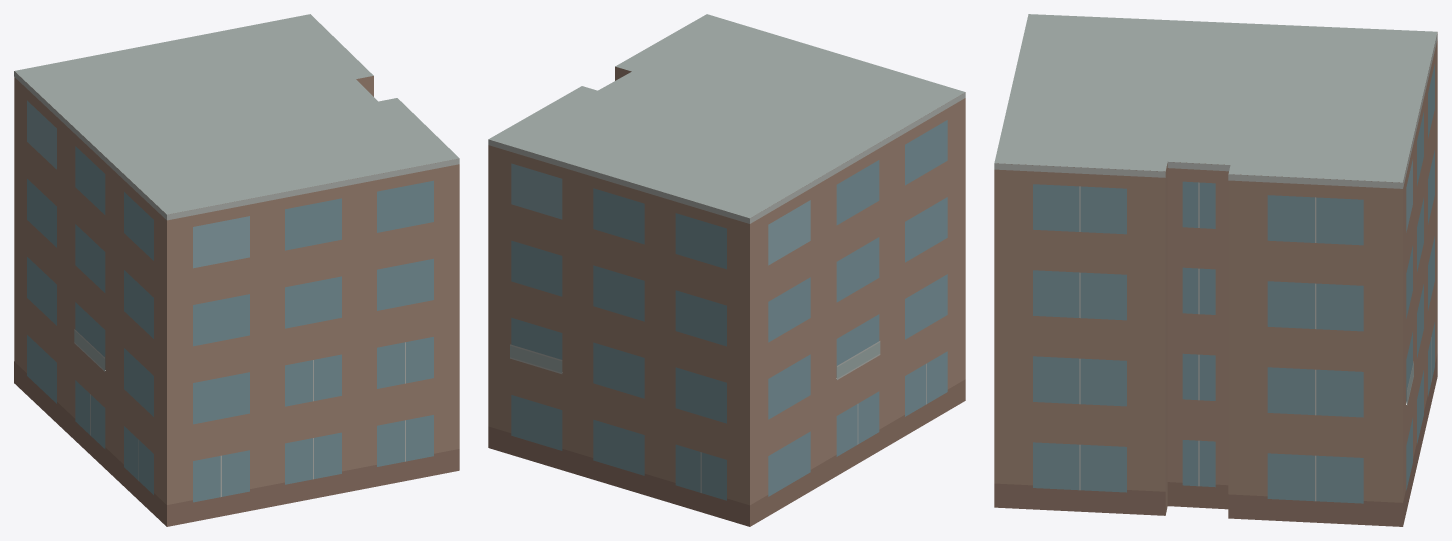
The model's file is survey-upis-32945025.glb.
The picture shows the model from 3 angles, left to right: view 1: azimuth 30°, elevation 25°; view 2: azimuth 150°, elevation 25°; view 3: azimuth 270°, elevation 25°; orthographic projection. The views are drawn at different scales.
Parts seen in each view (by area): view 1: survey-upis-32945025.tmp; view 2: survey-upis-32945025.tmp; view 3: survey-upis-32945025.tmp.
Boxes of the visible parts, x1,y1,x2,y2 form: survey-upis-32945025.tmp: (14,14,459,526); survey-upis-32945025.tmp: (488,14,965,526); survey-upis-32945025.tmp: (994,14,1437,526).
Bounding box in the file's own units: 13.92 × 13.25 × 15.47.
